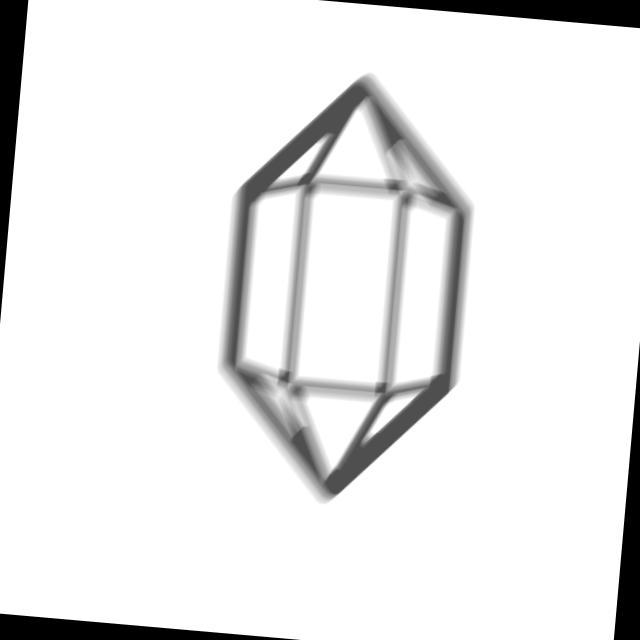crystal: (198, 56, 496, 519)
